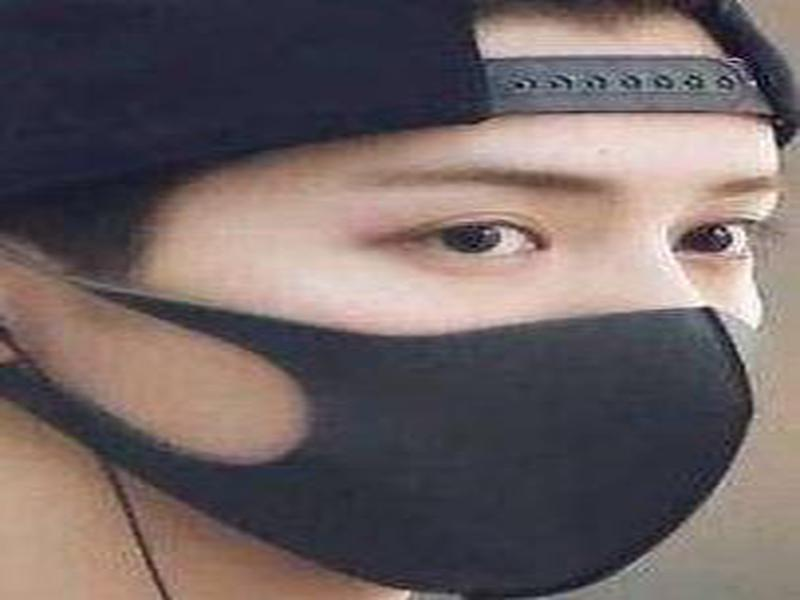with_mask: (1, 1, 800, 600)
